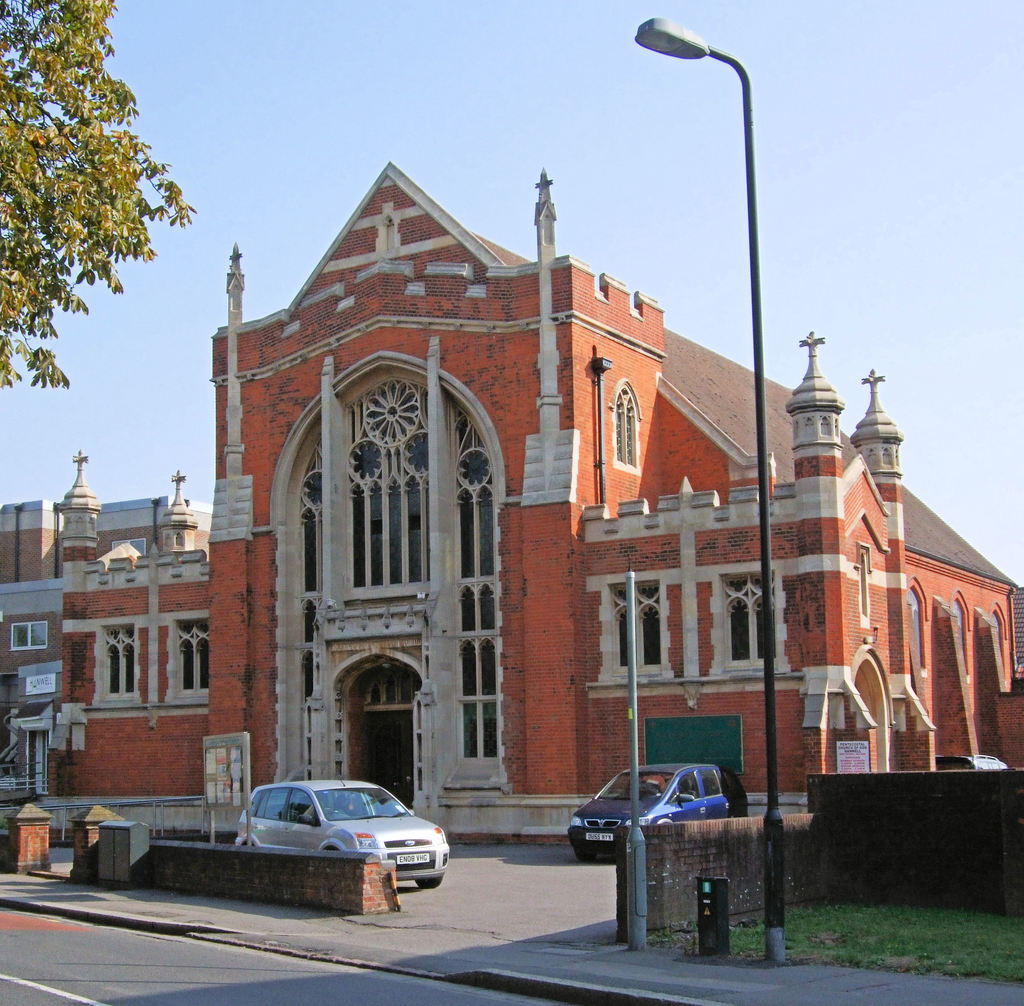Car: (209, 782, 453, 906), (567, 764, 745, 860), (935, 753, 1008, 773)
